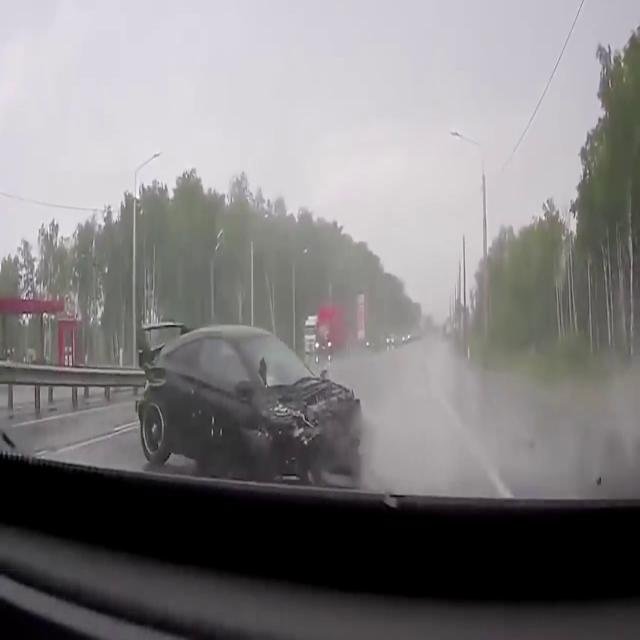single accident: (77, 257, 390, 510)
